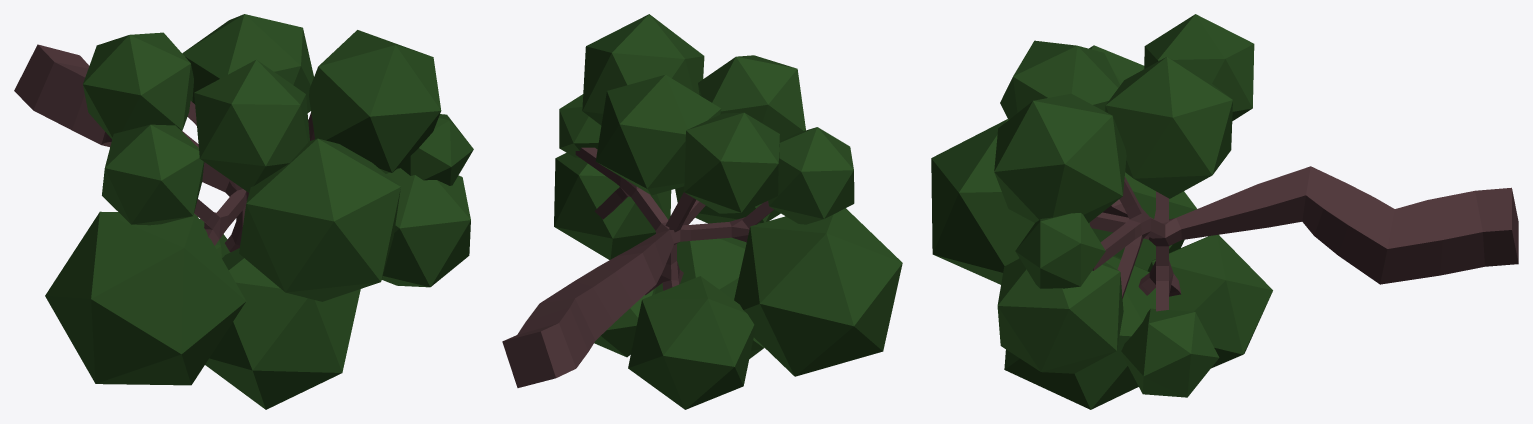
The model's file is troe.fbx.
3 renders of one model, left to right at view 1: azimuth 30°, elevation 25°; view 2: azimuth 150°, elevation 25°; view 3: azimuth 270°, elevation 25°, orthographic. The views are drawn at different scales.
Visible parts, largest first — view 1: Cube; view 2: Cube; view 3: Cube.
Boxes of the visible parts, box(x1,y1,x2,y2) form: Cube: box(14, 14, 473, 409); Cube: box(502, 14, 902, 409); Cube: box(931, 14, 1518, 409).
Bounding box in the file's own units: 549 × 492 × 739.
